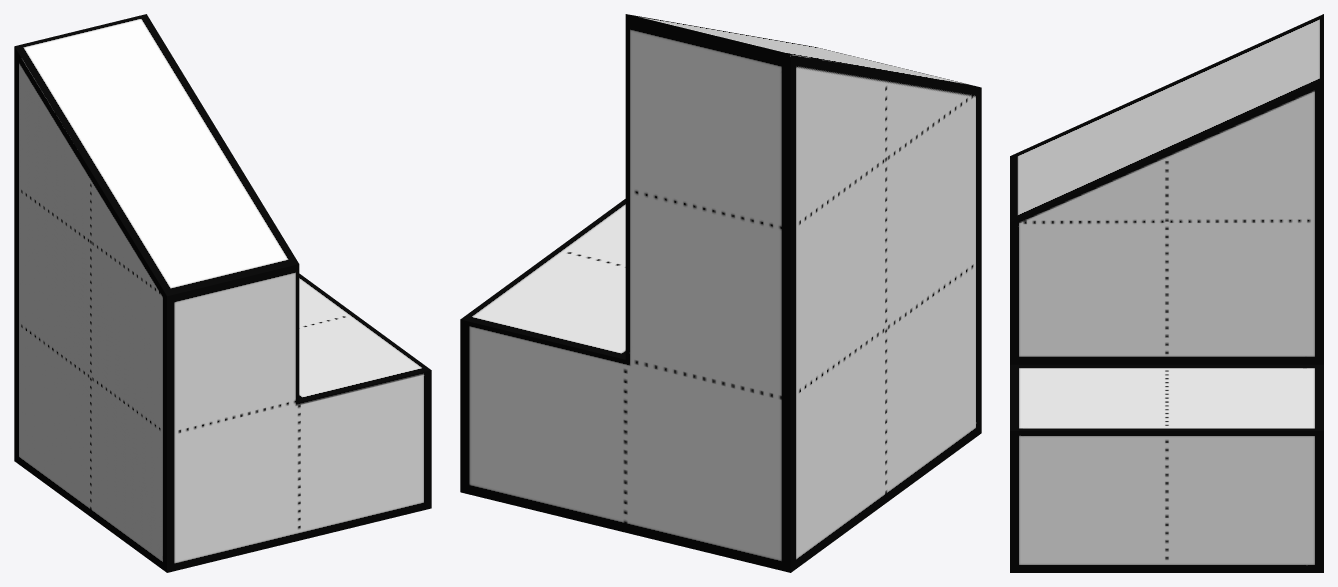
File: fig2.dae
The picture shows the model from 3 angles, left to right: view 1: azimuth 30°, elevation 25°; view 2: azimuth 150°, elevation 25°; view 3: azimuth 270°, elevation 25°; orthographic projection. The views are drawn at different scales.
Parts seen in each view (by area): view 1: SketchUp (×4); view 2: SketchUp (×4); view 3: SketchUp (×4).
Boxes of the visible parts, left/top/right/bottom form: SketchUp (×4): left=14, top=14, right=431, bottom=572; SketchUp (×4): left=460, top=14, right=981, bottom=572; SketchUp (×4): left=1010, top=14, right=1323, bottom=572.
Size of the model in its own units: 7.87 by 7.87 by 11.81.
Materials: 8 (8 with a texture image).
